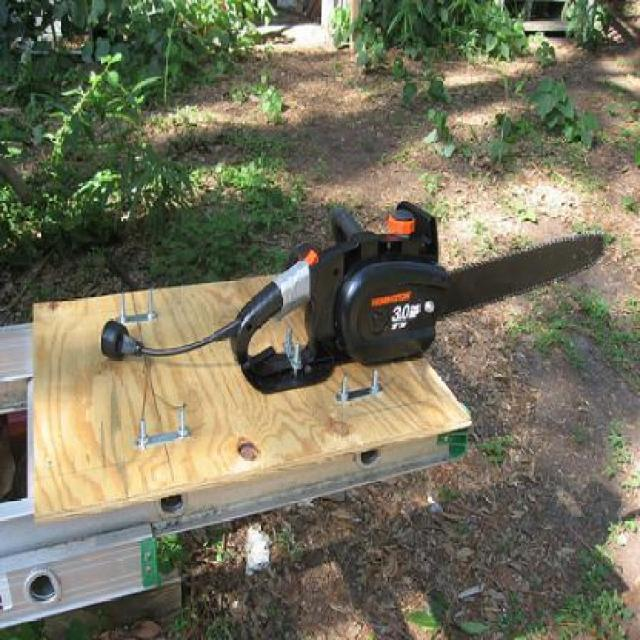Chainsaw: (100, 199, 606, 393)
